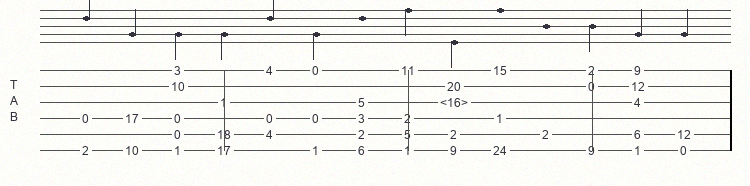0: (82, 112, 93, 125), (174, 128, 185, 141), (174, 112, 185, 125), (266, 112, 277, 125), (312, 64, 323, 77), (312, 112, 323, 125), (588, 80, 599, 93), (680, 144, 691, 157)
1: (174, 144, 185, 157), (220, 96, 231, 109), (312, 144, 323, 157), (404, 144, 415, 157), (496, 112, 507, 125), (634, 144, 645, 157)
10: (125, 144, 143, 157), (171, 80, 189, 93)
11: (401, 64, 419, 77)
12: (631, 80, 649, 93), (677, 128, 695, 141)
15: (493, 64, 511, 77)
17: (125, 112, 143, 125), (217, 144, 235, 157)
18: (217, 128, 235, 141)
2: (82, 144, 93, 157), (358, 128, 369, 141), (404, 112, 415, 125), (450, 128, 461, 141), (542, 128, 553, 141), (588, 64, 599, 77)
20: (447, 80, 465, 93)
24: (493, 144, 511, 157)
3: (174, 64, 185, 77), (358, 112, 369, 125)
4: (266, 64, 277, 77), (266, 128, 277, 141), (634, 96, 645, 109)
5: (358, 96, 369, 109), (404, 128, 415, 141)
6: (358, 144, 369, 157), (634, 128, 645, 141)
9: (450, 144, 461, 157), (588, 144, 599, 157), (634, 64, 645, 77)
harmonic: (440, 96, 472, 109)
